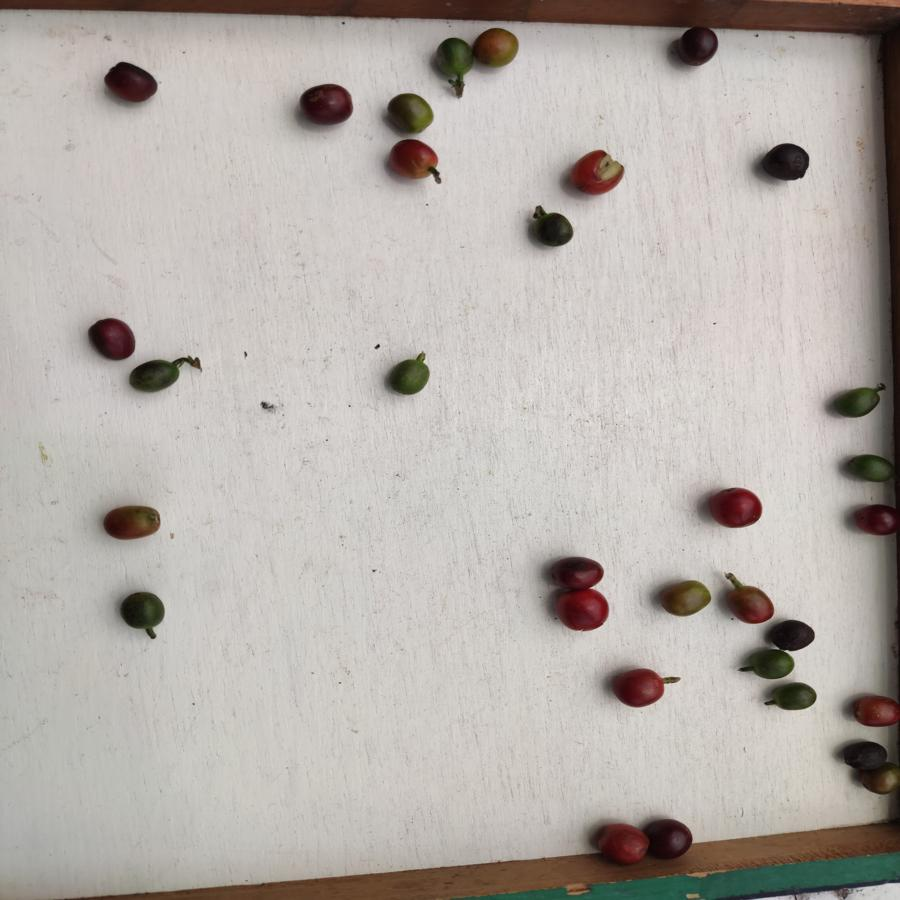Inmaduro: (127, 357, 182, 394), (117, 591, 164, 632), (842, 453, 895, 485), (765, 681, 819, 712), (531, 209, 574, 247), (832, 386, 880, 420), (386, 358, 429, 395), (433, 36, 471, 77), (747, 650, 795, 681)
Maduro: (569, 148, 624, 196), (555, 588, 609, 634), (708, 485, 762, 529), (612, 667, 667, 709), (593, 822, 647, 864), (383, 138, 437, 180), (851, 693, 900, 730)
Pinton: (101, 504, 164, 540), (659, 579, 712, 620), (383, 90, 435, 131), (472, 25, 519, 69), (725, 586, 772, 626), (861, 765, 900, 799)
Sobremaduro: (102, 61, 160, 106), (298, 80, 354, 126), (645, 815, 694, 859), (86, 317, 135, 361), (547, 554, 604, 588), (762, 141, 808, 180), (850, 503, 900, 537), (676, 26, 717, 66), (767, 618, 816, 649), (843, 739, 888, 770)
